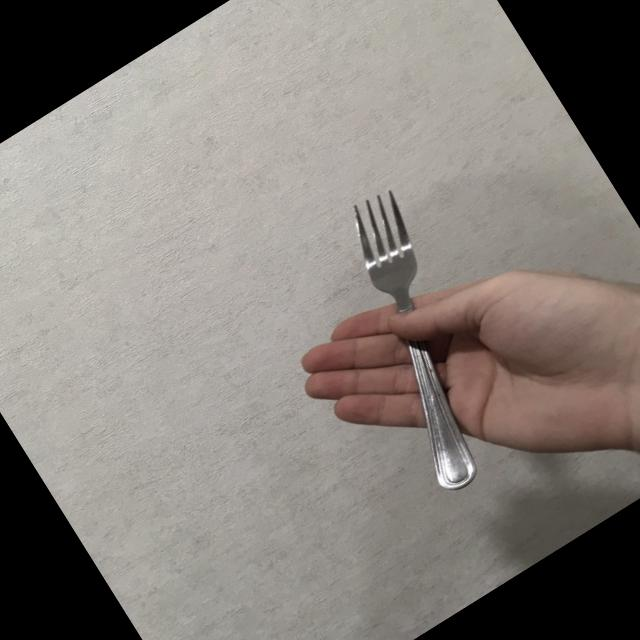fork: (286, 179, 547, 497)
